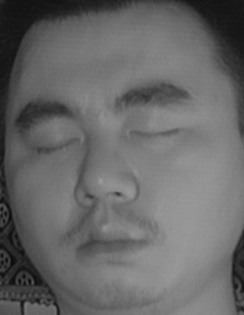blink: (127, 113, 180, 152), (31, 125, 82, 165)
mouth: (70, 212, 159, 271)
